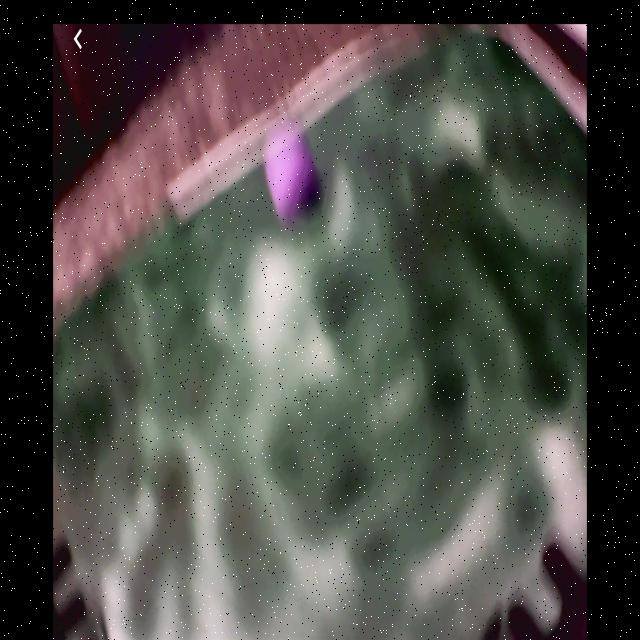ball: (269, 139, 316, 213)
